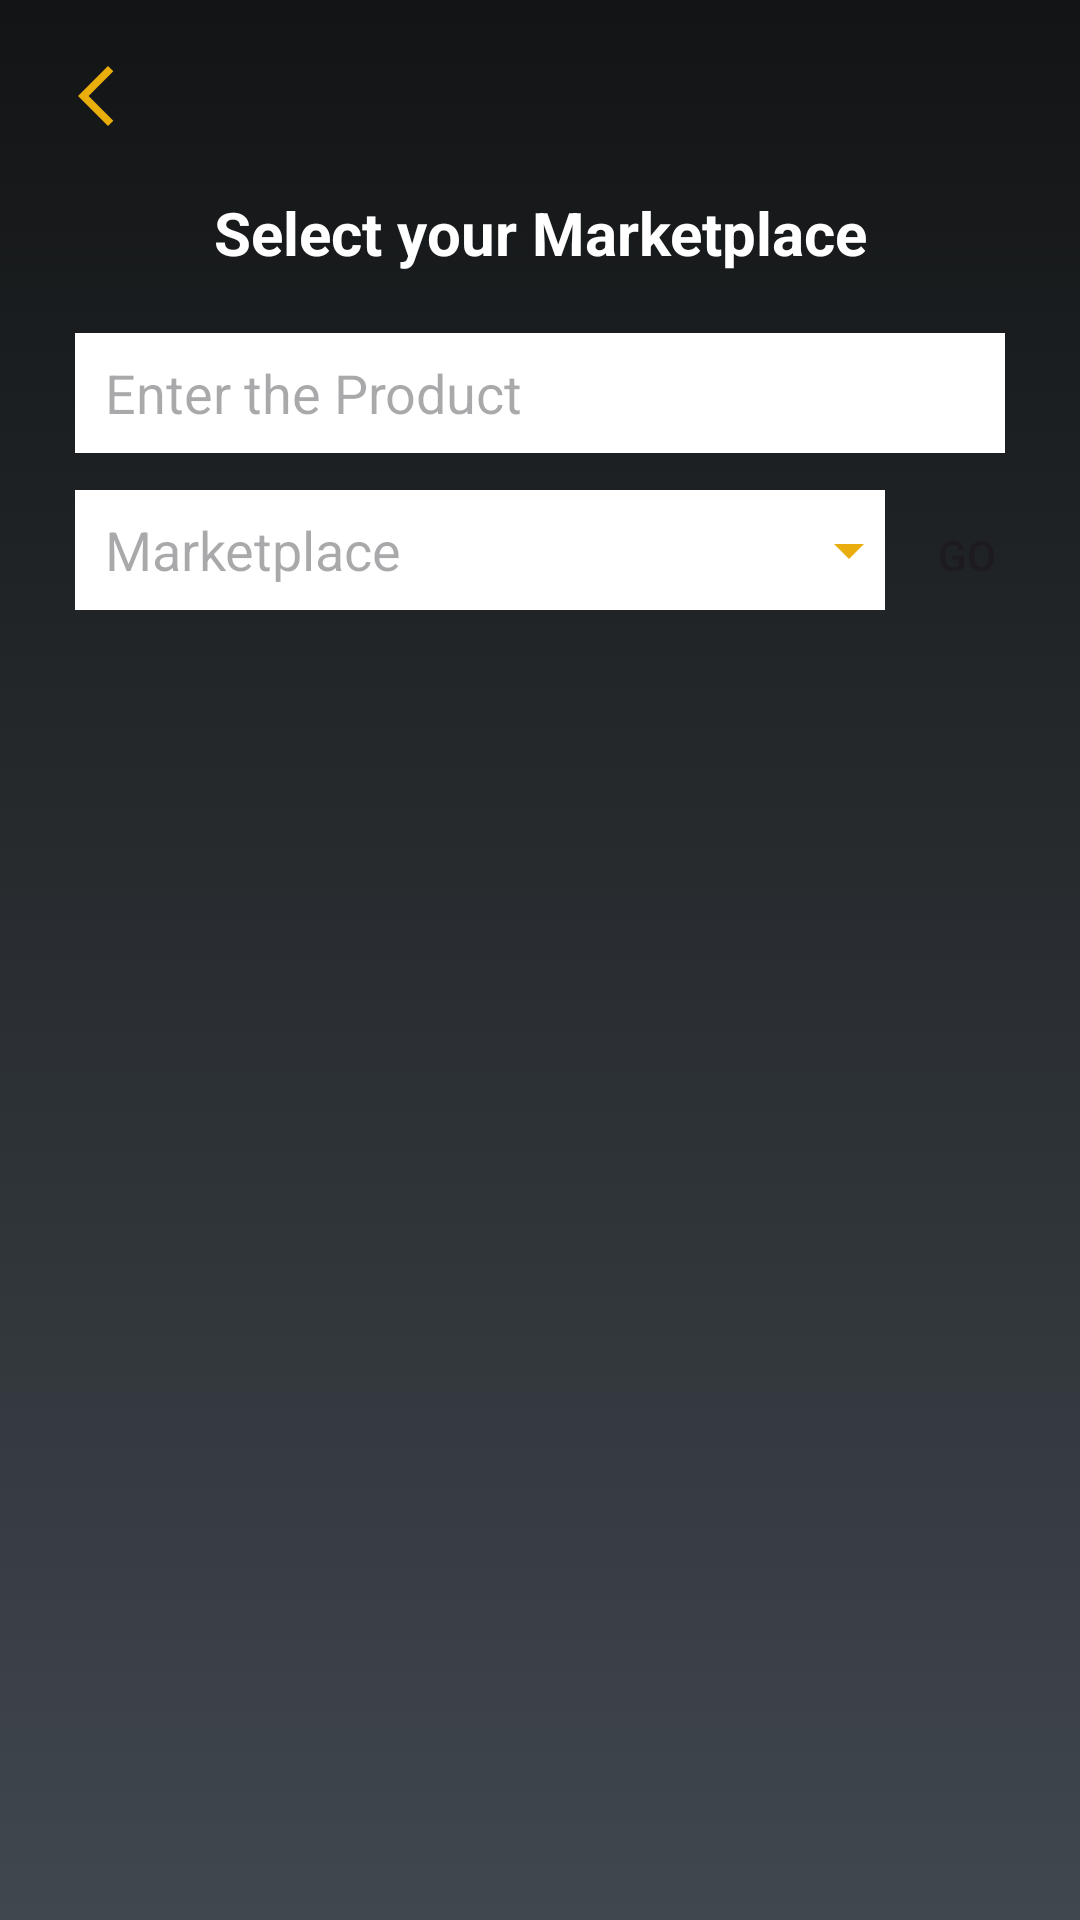

Where icons sit on this 1080 x 1920 app screen, as BBox(x1, y1, x2, y2):
goback: BBox(78, 66, 113, 126)
